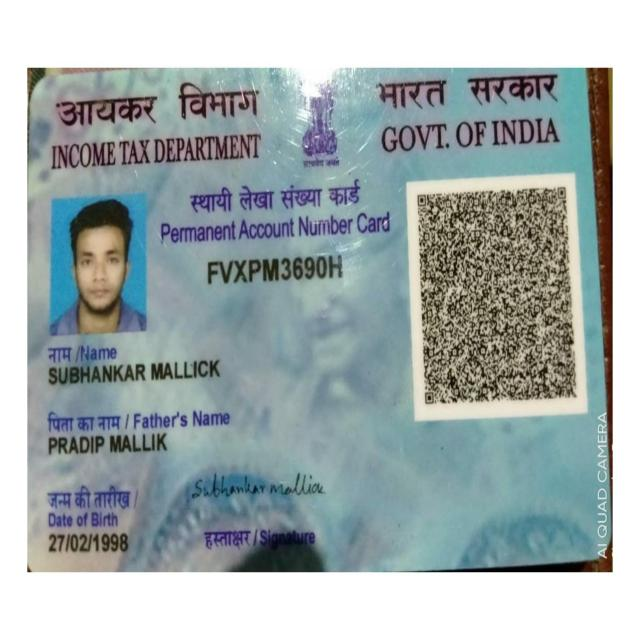pan_card: (29, 70, 599, 565)
